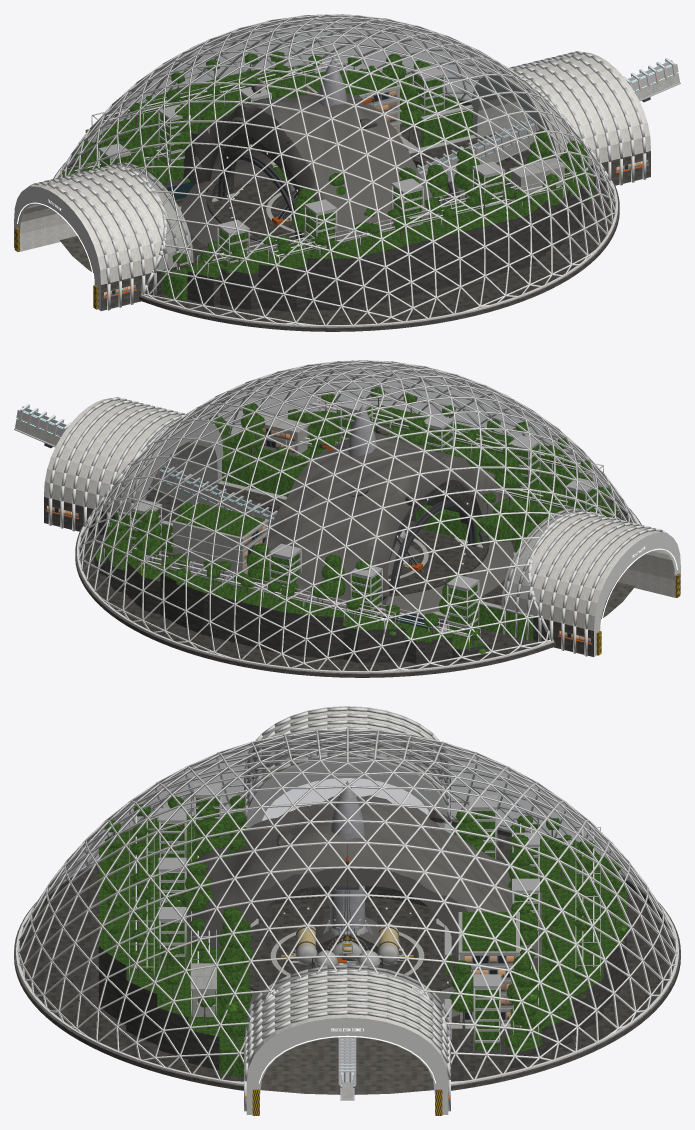
File: shackleton-base-kit.glb
3 renders of one model, top to bottom at view 1: azimuth 30°, elevation 25°; view 2: azimuth 150°, elevation 25°; view 3: azimuth 270°, elevation 25°, orthographic. The views are drawn at different scales.
Visible parts, largest first — view 1: biodome / Shackleton dome glass, biodome / Shackleton frame, biodome / Shackleton foliage, biodome / Shackleton sintered block, biodome / Shackleton white hull, lava-tube-portal / Shackleton regolith ground, biodome / Shackleton sintered regolith, mass-driver / Shackleton trim atlas, biodome / Shackleton trim atlas, landing-pad / Shackleton sintered regolith, landing-pad / Shackleton regolith ground, lava-tube-portal / Shackleton sintered block (+8 smaller); view 2: biodome / Shackleton dome glass, biodome / Shackleton frame, biodome / Shackleton foliage, biodome / Shackleton white hull, lava-tube-portal / Shackleton regolith ground, biodome / Shackleton sintered block, biodome / Shackleton sintered regolith, mass-driver / Shackleton trim atlas, biodome / Shackleton trim atlas, landing-pad / Shackleton regolith ground, landing-pad / Shackleton sintered regolith, lava-tube-portal / Shackleton trim atlas (+8 smaller); view 3: biodome / Shackleton dome glass, biodome / Shackleton frame, biodome / Shackleton foliage, biodome / Shackleton sintered regolith, lava-tube-portal / Shackleton regolith ground, biodome / Shackleton sintered block, biodome / Shackleton white hull, landing-pad / Shackleton sintered regolith, biodome / Shackleton trim atlas, starship-cargo / Shackleton stainless, landing-pad / Shackleton sintered block, mass-driver / Shackleton trim atlas (+6 smaller).
Part boxes in pixels (x1=…): biodome / Shackleton dome glass: x1=59, y1=15, x2=615, y2=324; biodome / Shackleton frame: x1=14, y1=14, x2=646, y2=327; biodome / Shackleton foliage: x1=61, y1=51, x2=593, y2=300; biodome / Shackleton sintered block: x1=53, y1=100, x2=650, y2=331; biodome / Shackleton white hull: x1=20, y1=52, x2=650, y2=284; lava-tube-portal / Shackleton regolith ground: x1=183, y1=92, x2=439, y2=241; biodome / Shackleton sintered regolith: x1=60, y1=105, x2=613, y2=324; mass-driver / Shackleton trim atlas: x1=417, y1=58, x2=680, y2=181; biodome / Shackleton trim atlas: x1=14, y1=62, x2=648, y2=309; landing-pad / Shackleton sintered regolith: x1=229, y1=179, x2=306, y2=242; landing-pad / Shackleton regolith ground: x1=180, y1=154, x2=470, y2=253; lava-tube-portal / Shackleton sintered block: x1=216, y1=134, x2=299, y2=200; biodome / Shackleton dome glass: x1=79, y1=361, x2=635, y2=670; biodome / Shackleton frame: x1=48, y1=360, x2=680, y2=673; biodome / Shackleton foliage: x1=94, y1=387, x2=618, y2=653; biodome / Shackleton white hull: x1=44, y1=398, x2=674, y2=630; lava-tube-portal / Shackleton regolith ground: x1=250, y1=433, x2=505, y2=616; biodome / Shackleton sintered block: x1=44, y1=487, x2=641, y2=677; biodome / Shackleton sintered regolith: x1=81, y1=478, x2=634, y2=670; mass-driver / Shackleton trim atlas: x1=14, y1=404, x2=277, y2=525; biodome / Shackleton trim atlas: x1=46, y1=398, x2=680, y2=655; landing-pad / Shackleton regolith ground: x1=262, y1=500, x2=514, y2=616; landing-pad / Shackleton sintered regolith: x1=388, y1=521, x2=465, y2=593; lava-tube-portal / Shackleton trim atlas: x1=390, y1=500, x2=476, y2=593; biodome / Shackleton dome glass: x1=19, y1=729, x2=675, y2=1081; biodome / Shackleton frame: x1=16, y1=707, x2=678, y2=1114; biodome / Shackleton foliage: x1=99, y1=795, x2=627, y2=1077; biodome / Shackleton sintered regolith: x1=20, y1=826, x2=674, y2=1094; lava-tube-portal / Shackleton regolith ground: x1=186, y1=795, x2=541, y2=965; biodome / Shackleton sintered block: x1=14, y1=821, x2=680, y2=1090; biodome / Shackleton white hull: x1=192, y1=706, x2=518, y2=1081; landing-pad / Shackleton sintered regolith: x1=249, y1=906, x2=457, y2=989; biodome / Shackleton trim atlas: x1=111, y1=808, x2=617, y2=1115; starship-cargo / Shackleton stainless: x1=330, y1=781, x2=364, y2=931; landing-pad / Shackleton sintered block: x1=249, y1=886, x2=451, y2=990; mass-driver / Shackleton trim atlas: x1=338, y1=961, x2=356, y2=1100.
Size of the model in its own units: 215 by 65.14 by 172.
23 materials, 11 textured.
